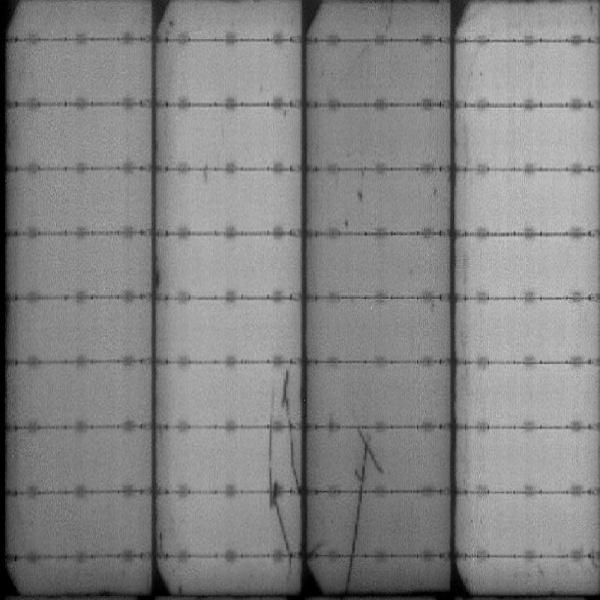scratch: (343, 430, 385, 489), (342, 493, 367, 591), (283, 366, 296, 490), (260, 428, 281, 501), (276, 504, 296, 577)
